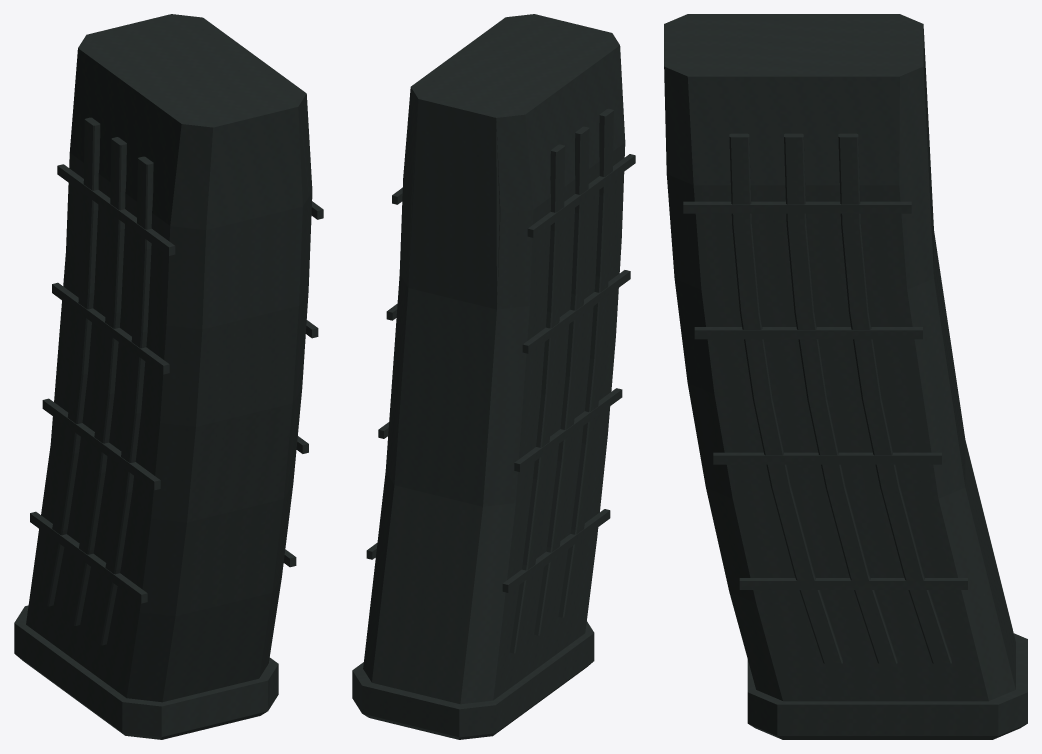
The model's file is val_20.glb.
3 renders of one model, left to right at view 1: azimuth 30°, elevation 25°; view 2: azimuth 150°, elevation 25°; view 3: azimuth 270°, elevation 25°, orthographic. The views are drawn at different scales.
Parts seen in each view (by area): view 1: val_20_individual_shell, val_20_individual_shell.001; view 2: val_20_individual_shell, val_20_individual_shell.001; view 3: val_20_individual_shell, val_20_individual_shell.001.
Part boxes in pixels (<box>): val_20_individual_shell: <box>14,14,323,739</box>; val_20_individual_shell.001: <box>26,253,166,696</box>; val_20_individual_shell: <box>352,14,635,739</box>; val_20_individual_shell.001: <box>363,99,621,704</box>; val_20_individual_shell: <box>664,14,1027,739</box>; val_20_individual_shell.001: <box>702,29,1015,701</box>.
Size of the model in its own units: 0.0748 by 0.294 by 0.1472.
Materials: 1 (1 with a texture image).
